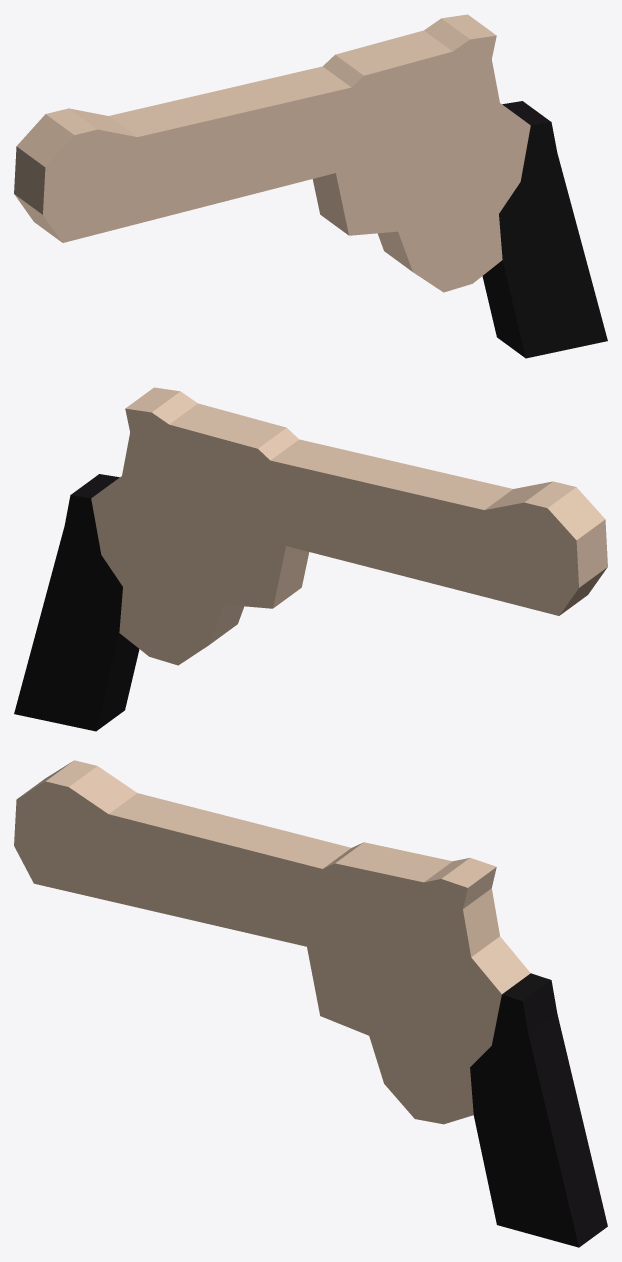
The picture shows the model from 3 angles, top to bottom: view 1: azimuth 30°, elevation 25°; view 2: azimuth 150°, elevation 25°; view 3: azimuth 330°, elevation 25°; orthographic projection.
Parts seen in each view (by area): view 1: Line001; view 2: Line001; view 3: Line001.
Part boxes in pixels (x1,y1,x2,y2): Line001: (14, 14, 607, 358); Line001: (14, 387, 607, 731); Line001: (14, 760, 607, 1247).
Size of the model in its own units: 257 by 146 by 22.75.
